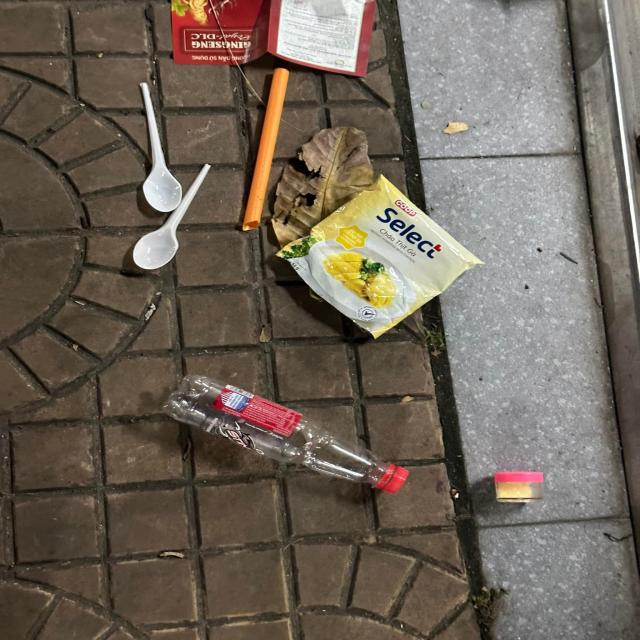bottle: (161, 374, 409, 494)
drinking straw: (242, 68, 290, 232)
paper: (171, 0, 377, 79)
plastic holder: (496, 472, 544, 503)
plastic utensil: (132, 164, 211, 269), (141, 82, 182, 213)
snack package: (275, 174, 486, 340)
